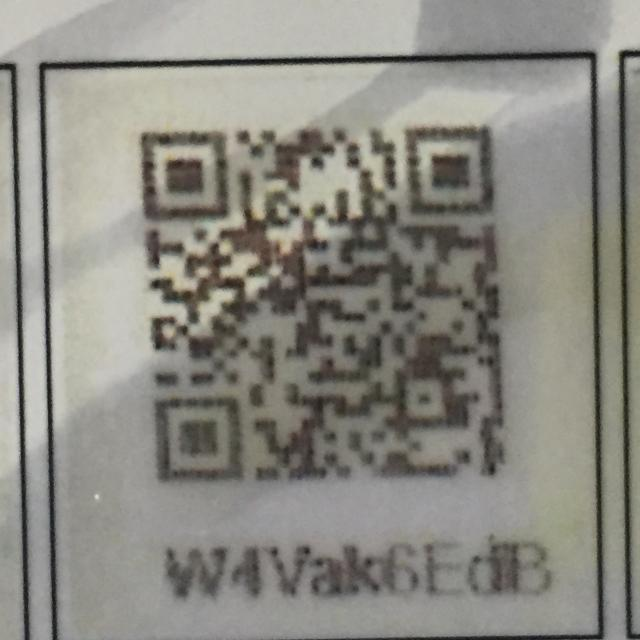qr-code: (130, 119, 521, 495)
